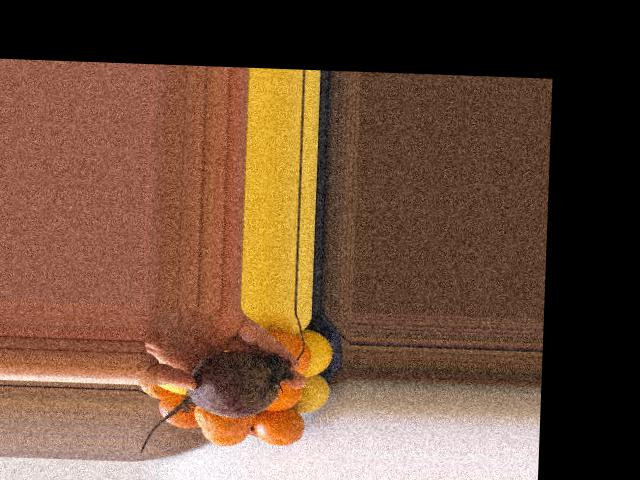beet: (140, 347, 292, 457)
